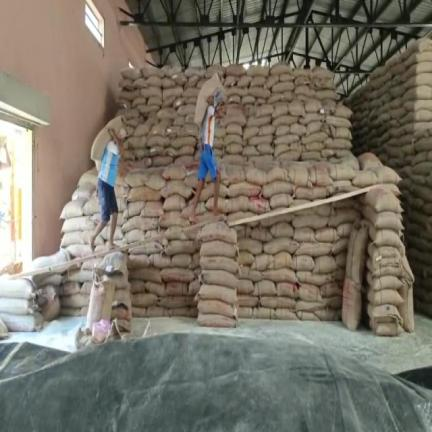Zone-Counting: (89, 117, 126, 250), (192, 73, 223, 217)
